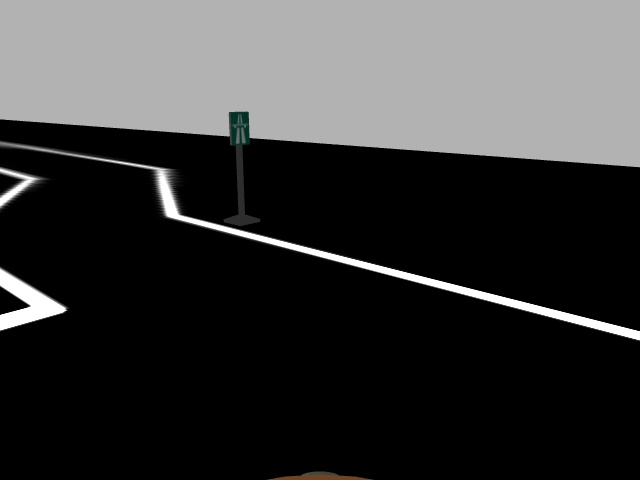enter_highway: (226, 110, 252, 146)
